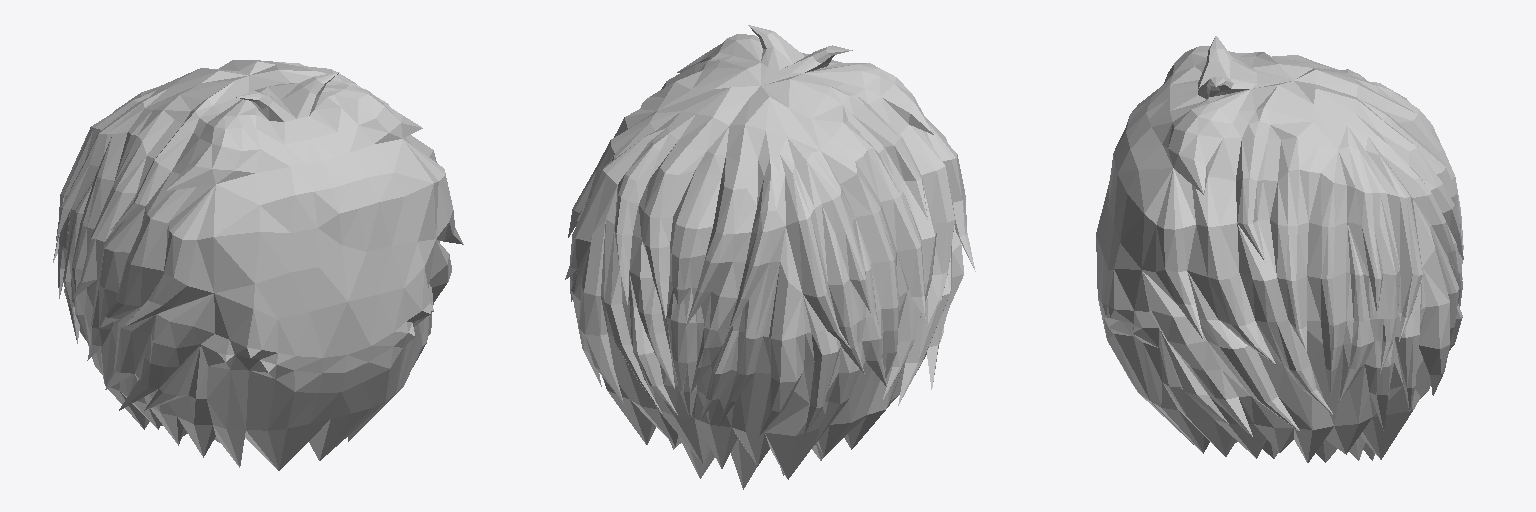
Rendered from body.obj.
The picture shows the model from 3 angles: view 1: azimuth 30°, elevation 25°; view 2: azimuth 150°, elevation 25°; view 3: azimuth 270°, elevation 25°; orthographic projection.
Visible parts, largest first — view 1: mesh_0_Body; view 2: mesh_0_Body; view 3: mesh_0_Body.
Boxes of the visible parts, box(x1,y1,x2,y2) form: mesh_0_Body: box(53, 60, 463, 470); mesh_0_Body: box(565, 25, 975, 489); mesh_0_Body: box(1096, 36, 1463, 462).
Bounding box in the file's own units: 11.66 × 12.71 × 10.87.